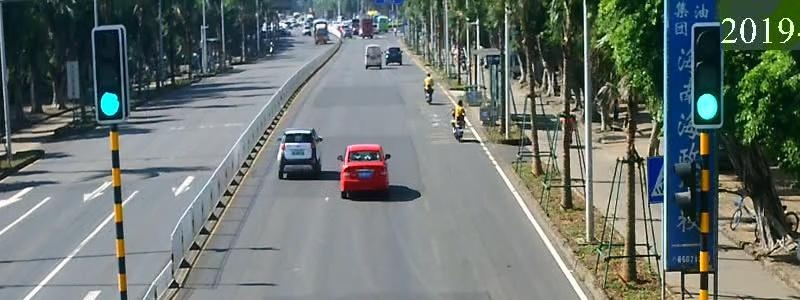green: (684, 87, 728, 130), (88, 89, 131, 125)
